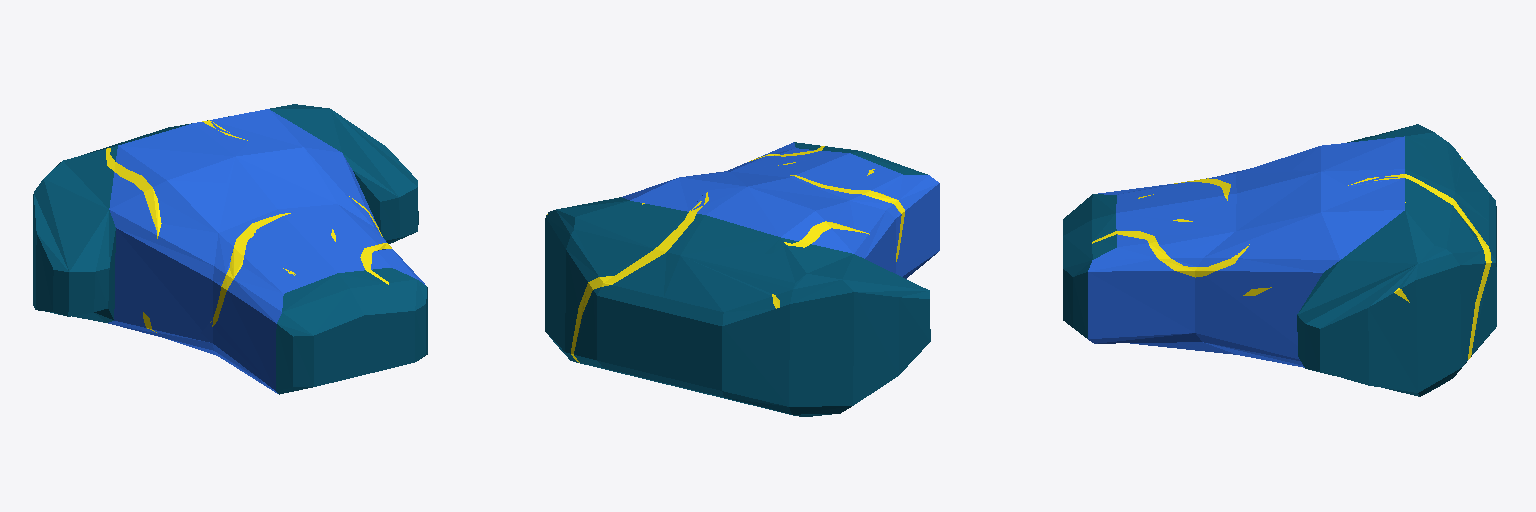
The model's file is LightningArmour.obj.
3 renders of one model, left to right at view 1: azimuth 30°, elevation 25°; view 2: azimuth 150°, elevation 25°; view 3: azimuth 270°, elevation 25°, orthographic.
Parts seen in each view (by area): view 1: LightningArmour; view 2: LightningArmour; view 3: LightningArmour.
Part boxes in pixels (left/top/right/bottom): LightningArmour: left=33, top=104, right=427, bottom=394; LightningArmour: left=545, top=142, right=939, bottom=416; LightningArmour: left=1063, top=124, right=1496, bottom=396.
Bounding box in the file's own units: 1.01 × 0.4581 × 1.04.